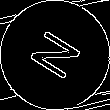N_SE: (23, 25, 87, 85)
